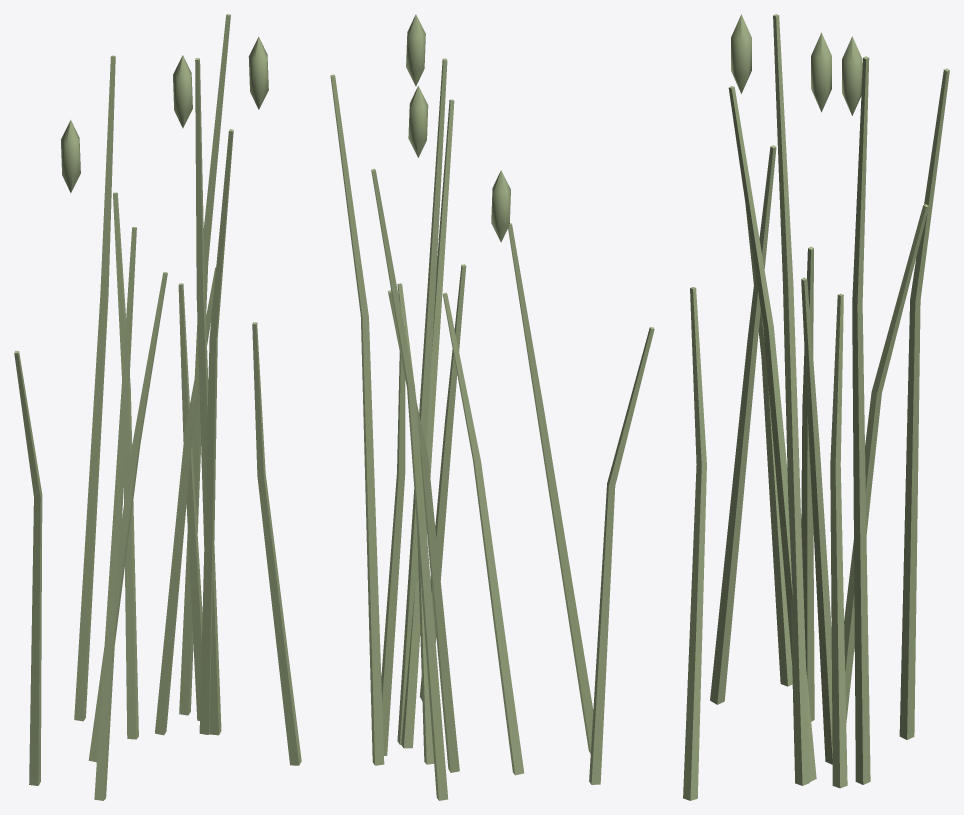
The model's file is saltglass_reeds.glb.
The picture shows the model from 3 angles, left to right: view 1: azimuth 30°, elevation 25°; view 2: azimuth 150°, elevation 25°; view 3: azimuth 270°, elevation 25°; orthographic projection. The views are drawn at different scales.
Parts seen in each view (by area): view 1: saltglass_reeds; view 2: saltglass_reeds; view 3: saltglass_reeds.
Boxes of the visible parts, left/top/right/bottom form: saltglass_reeds: left=14, top=14, right=301, bottom=800; saltglass_reeds: left=330, top=14, right=654, bottom=800; saltglass_reeds: left=683, top=14, right=949, bottom=800.
Bounding box in the file's own units: 0.5564 × 1.39 × 0.4332.
